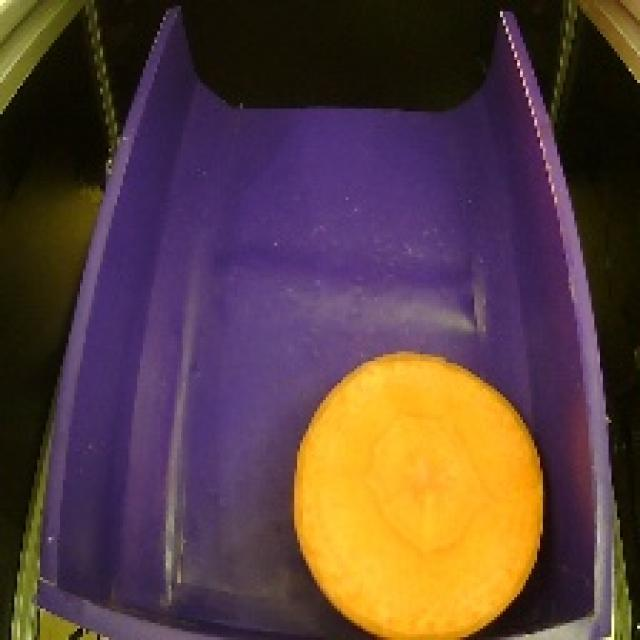carrots: (279, 346, 556, 640)
